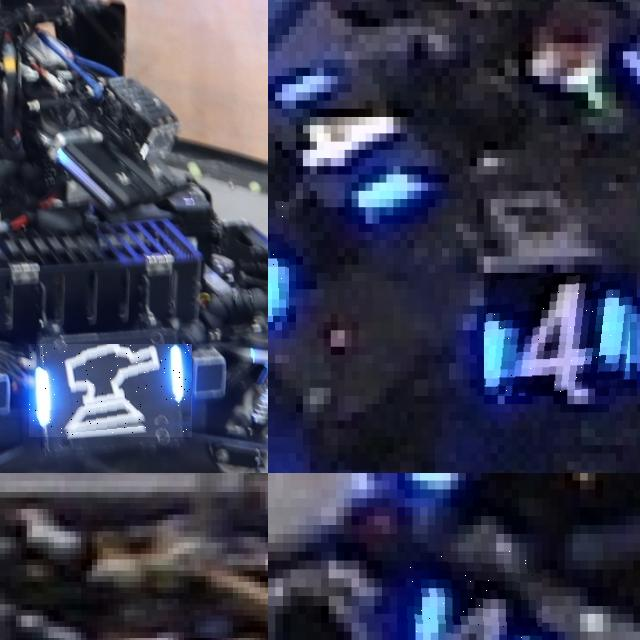B4: (484, 273, 637, 396), (397, 551, 542, 640), (268, 190, 289, 322)
Bs: (29, 344, 192, 437)
